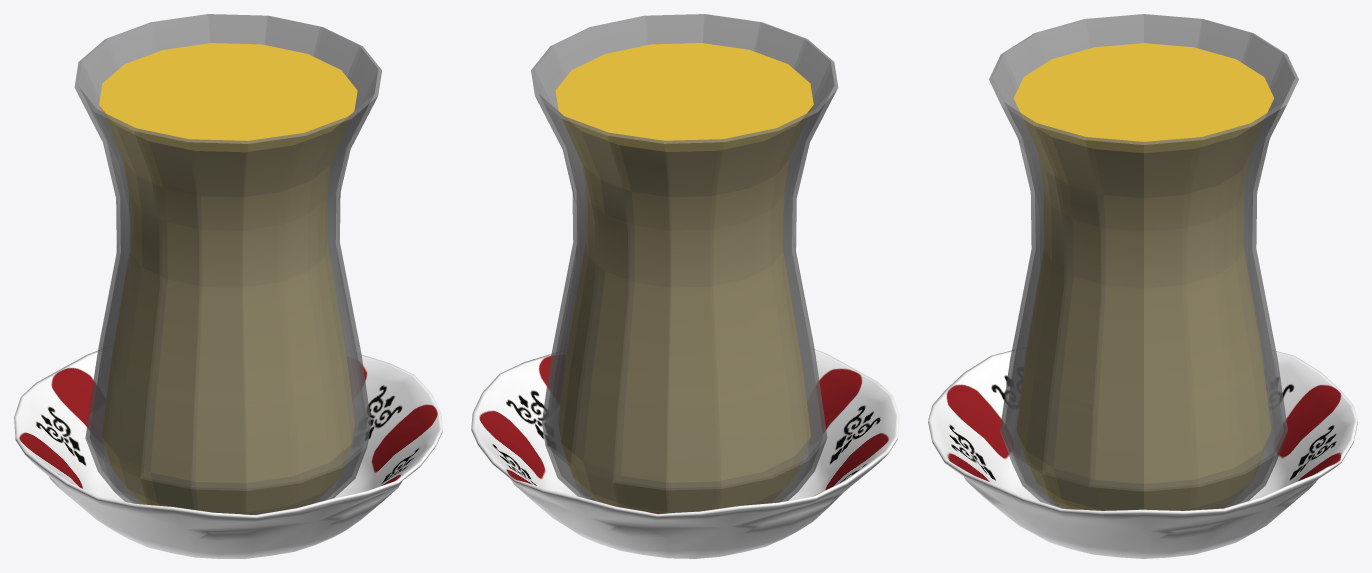
The model's file is Oralets(banana).fbx.
3 renders of one model, left to right at view 1: azimuth 30°, elevation 25°; view 2: azimuth 150°, elevation 25°; view 3: azimuth 270°, elevation 25°, orthographic.
Visible parts, largest first — view 1: TeaGlass, Banana, TeaGlassCoater; view 2: TeaGlass, Banana, TeaGlassCoater; view 3: TeaGlass, Banana, TeaGlassCoater.
Boxes of the visible parts, x1,y1,x2,y2 form: TeaGlass: (74,14,381,514); Banana: (99,43,357,514); TeaGlassCoater: (14,349,442,558); TeaGlass: (531,14,838,513); Banana: (555,43,813,513); TeaGlassCoater: (471,348,899,558); TeaGlass: (989,14,1298,510); Banana: (1013,43,1273,510); TeaGlassCoater: (928,350,1357,558).
Bounding box in the file's own units: 51.36 × 56.79 × 51.36.
Materials: 3 (1 with a texture image).
